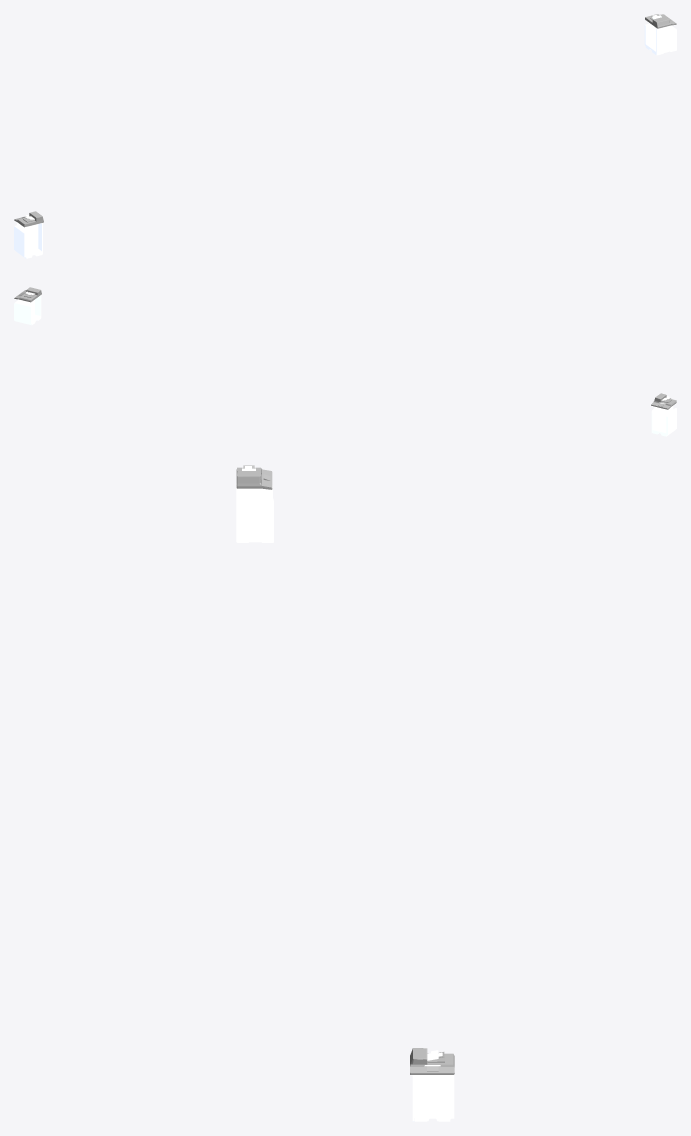
Rendered from printers.dae.
3 renders of one model, top to bottom at view 1: azimuth 30°, elevation 25°; view 2: azimuth 150°, elevation 25°; view 3: azimuth 270°, elevation 25°, orthographic. The views are drawn at different scales.
Parts seen in each view (by area): view 1: Printers; view 2: Printers; view 3: Printers.
Boxes of the visible parts, x1,y1,x2,y2 form: Printers: (14,14,676,258); Printers: (14,287,676,436); Printers: (236,465,454,1121).
Bounding box in the file's own units: 30.01 × 4.65 × 1.58.
